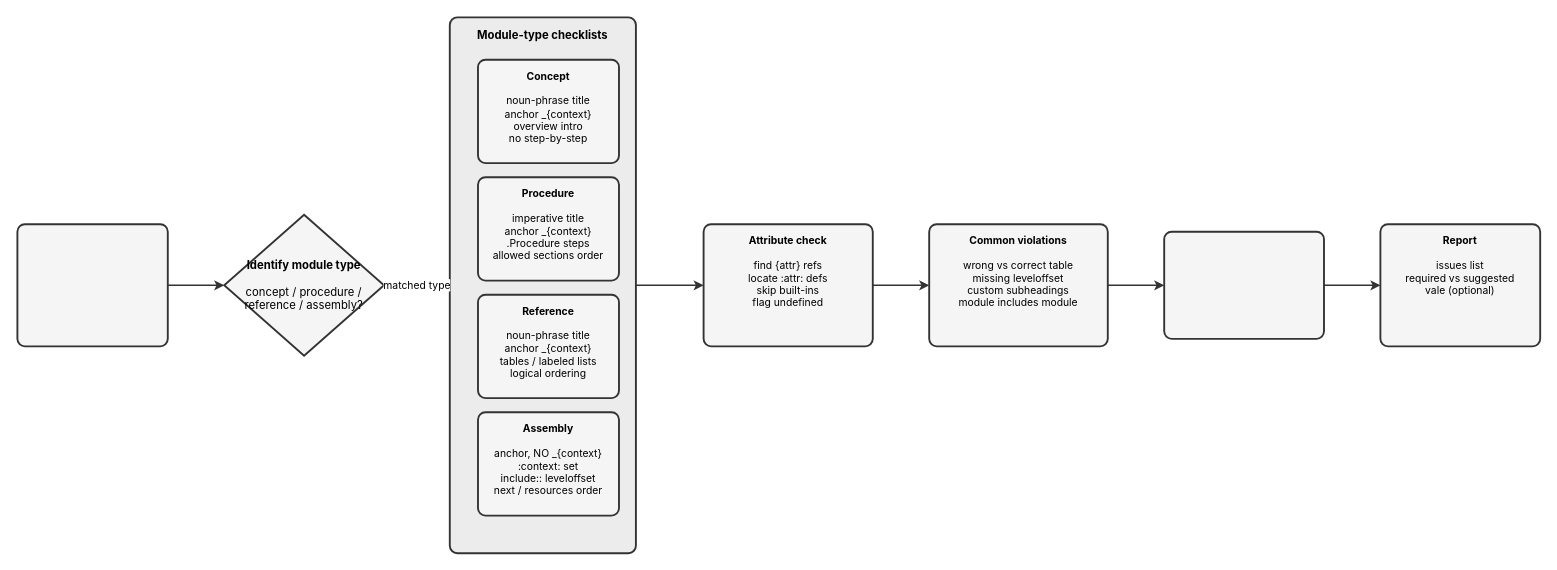
Image size: 1557x570. Some labels were removed from this diagram. The centre of each missing label's shape, as x and y in pixels:
Classify issues required (violations) [SUGGESTION]: [1243,284]
docs-review-modular-docs .adoc file input Red Hat modular docs checklist review: [92,285]
